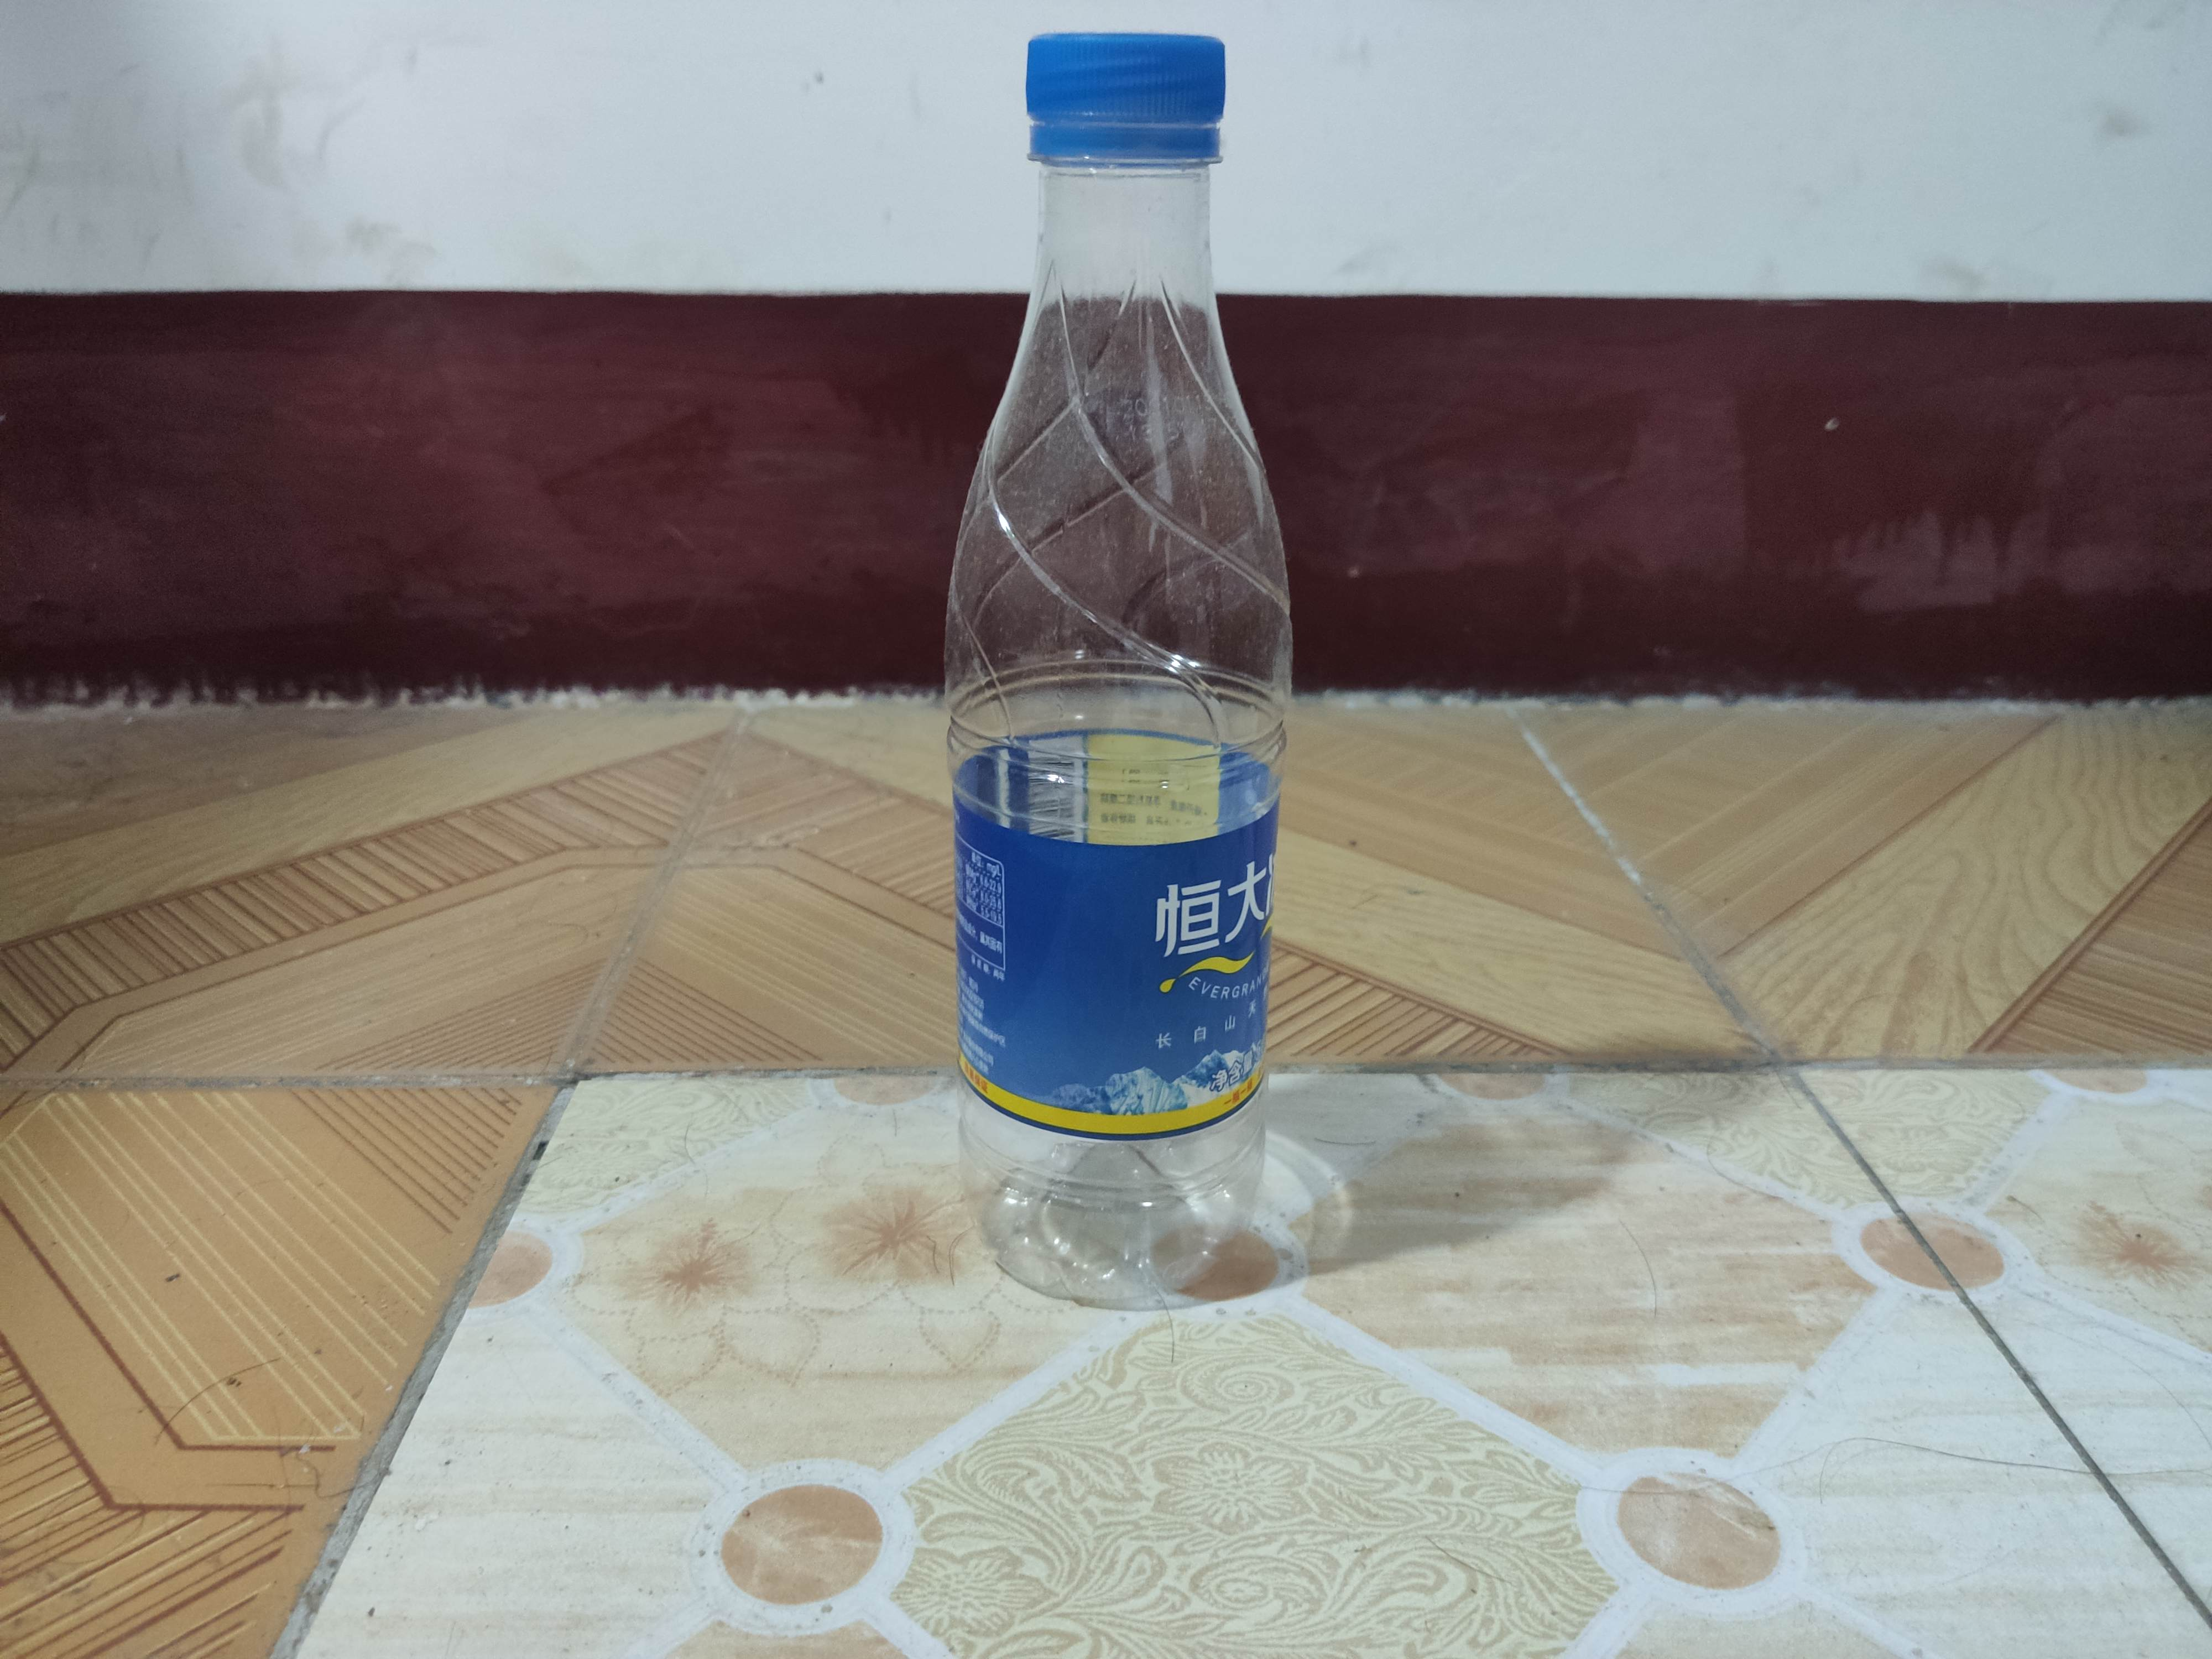Plastic Bottle: (937, 26, 1298, 1319)
